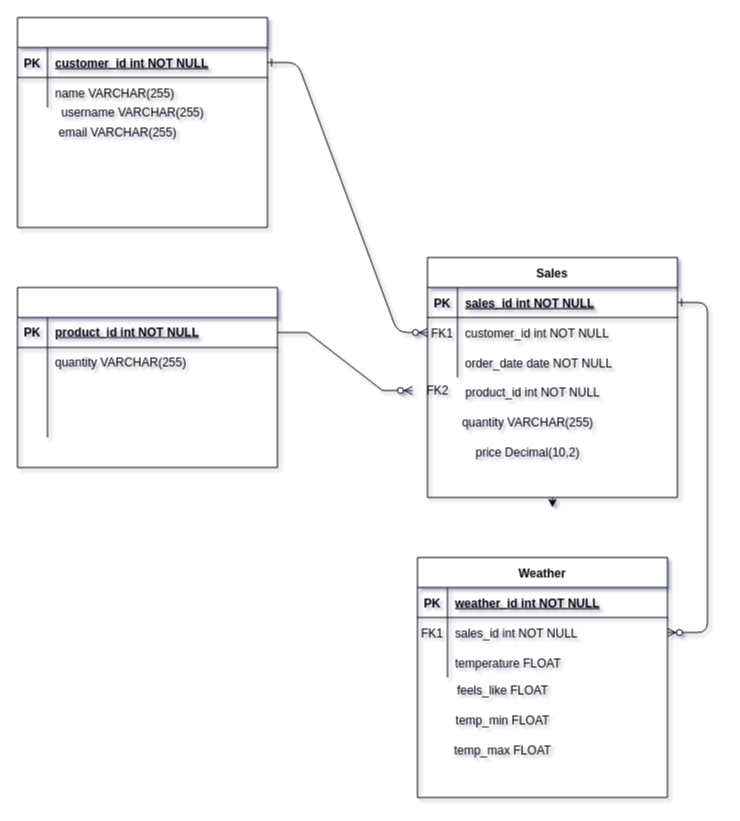
This 740x821 diagram has some shape labels left out. Each missing label, with the box of its shape:
Customers: (16, 16, 268, 228)
Products: (16, 286, 278, 468)
